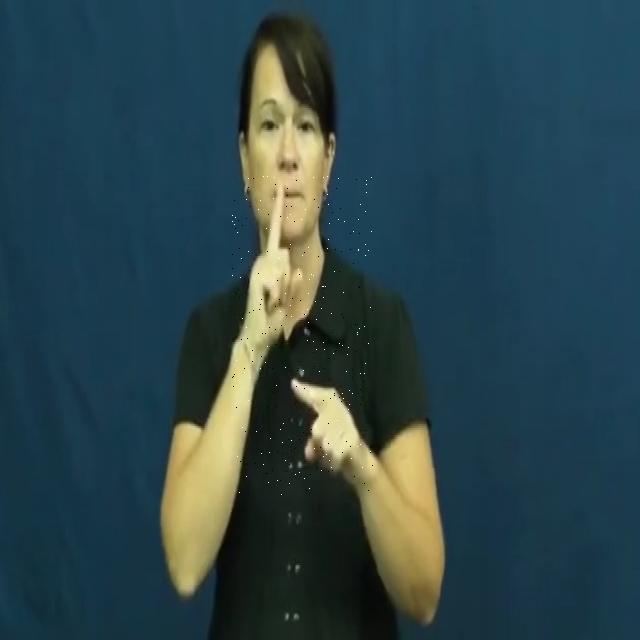tomato: (232, 174, 373, 496)
